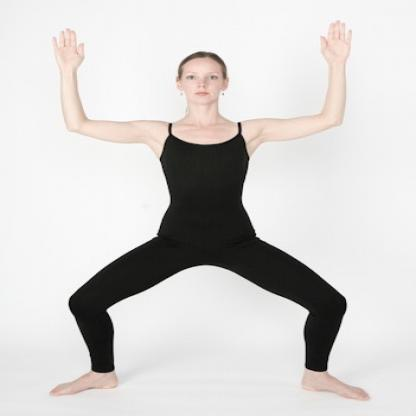godness: (34, 13, 383, 408)
